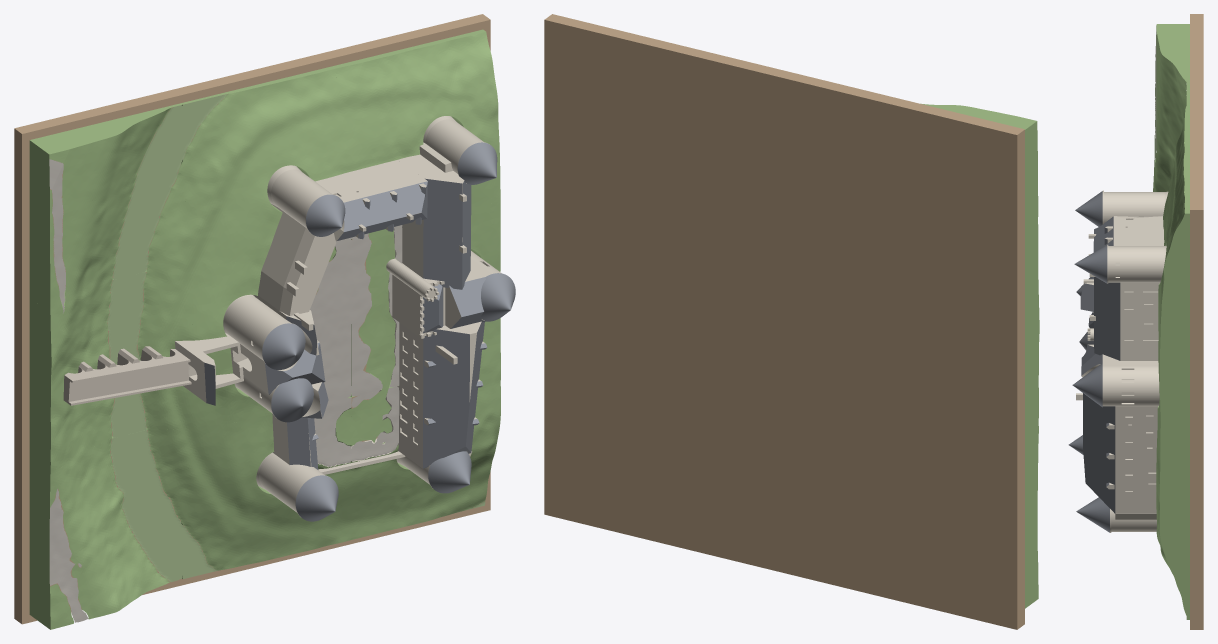
File: corroy.glb
The picture shows the model from 3 angles, left to right: view 1: azimuth 30°, elevation 25°; view 2: azimuth 150°, elevation 25°; view 3: azimuth 270°, elevation 25°; orthographic projection. The views are drawn at different scales.
Visible parts, largest first — view 1: terrain_A2, terrain_A1, plaque, terrain_C1, terrain_B1, terrain_A3, terrain_C2, bati_2_est_toit, terrain_C3, bati_3_entree_mur, bati_1_nord_toit, bati_1_nord_mur (+18 smaller); view 2: plaque, terrain_A1, terrain_B1, terrain_C1; view 3: bati_2_est_mur, plaque, bati_1_nord_mur, bati_2_est_toit, terrain_A3, terrain_A1, terrain_B3, bati_1_nord_toit, terrain_C3, terrain_A2, bati_3_entree_toit, terrain_B1 (+1 smaller).
Boxes of the visible parts, left/top/right/bottom form: terrain_A2: left=181, top=66, right=346, bottom=267; terrain_A1: left=29, top=103, right=188, bottom=313; plaque: left=14, top=14, right=490, bottom=624; terrain_C1: left=29, top=427, right=190, bottom=629; terrain_B1: left=29, top=267, right=193, bottom=471; terrain_A3: left=332, top=29, right=500, bottom=234; terrain_C2: left=181, top=396, right=351, bottom=578; bati_2_est_toit: left=423, top=259, right=515, bottom=493; terrain_C3: left=335, top=359, right=500, bottom=543; bati_3_entree_mur: left=175, top=219, right=339, bottom=418; bati_1_nord_toit: left=306, top=142, right=497, bottom=275; bati_1_nord_mur: left=267, top=116, right=489, bottom=269; plaque: left=544, top=14, right=1024, bottom=629; terrain_A1: left=920, top=103, right=1038, bottom=289; terrain_B1: left=1025, top=280, right=1039, bottom=448; terrain_C1: left=1025, top=439, right=1038, bottom=608; bati_2_est_mur: left=1076, top=328, right=1159, bottom=532; plaque: left=1190, top=14, right=1203, bottom=629; bati_1_nord_mur: left=1088, top=190, right=1168, bottom=350; bati_2_est_toit: left=1072, top=341, right=1120, bottom=532; terrain_A3: left=1158, top=150, right=1189, bottom=348; terrain_A1: left=1154, top=24, right=1189, bottom=177; terrain_B3: left=1156, top=327, right=1189, bottom=484; bati_1_nord_toit: left=1074, top=191, right=1120, bottom=350; terrain_C3: left=1156, top=464, right=1189, bottom=619; terrain_A2: left=1163, top=87, right=1189, bottom=231; bati_3_entree_toit: left=1076, top=277, right=1095, bottom=365; terrain_B1: left=1153, top=159, right=1171, bottom=191.
Size of the model in its own units: 620 by 620 by 181.
